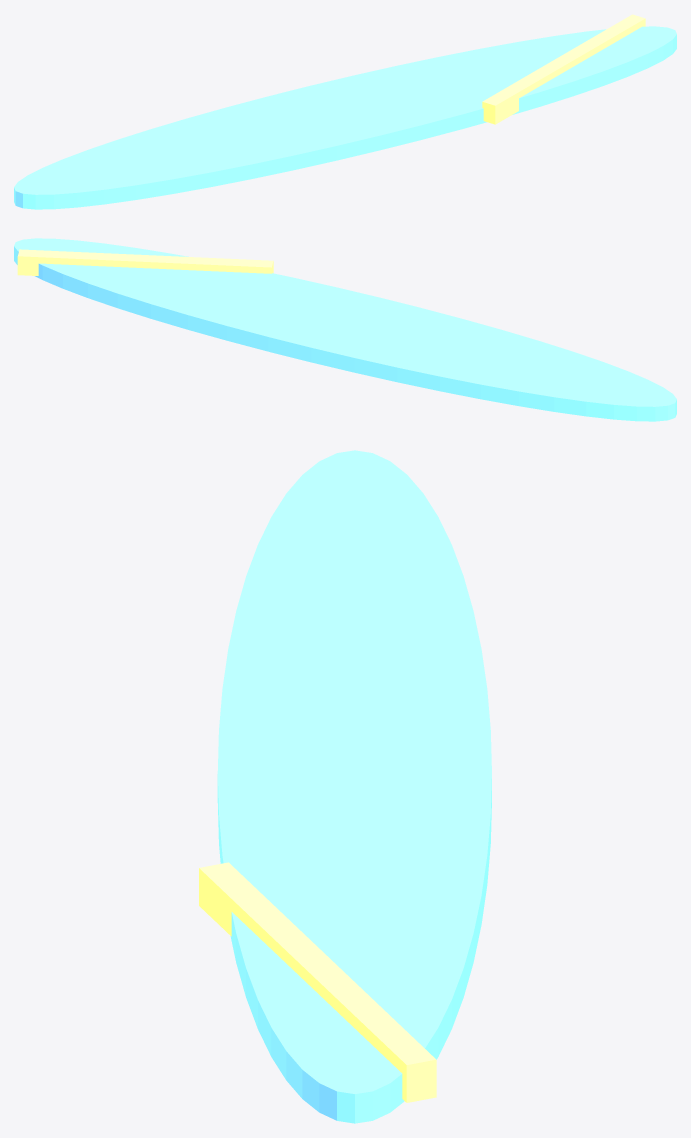
The model's file is slash_arc.glb.
3 views of the same model, one above another, from view 1: azimuth 30°, elevation 25°; view 2: azimuth 150°, elevation 25°; view 3: azimuth 270°, elevation 25° (orthographic). The views are drawn at different scales.
Parts seen in each view (by area): view 1: slash crescent core, slash leading edge, slash trailing edge; view 2: slash crescent core, slash leading edge, slash trailing edge; view 3: slash crescent core, slash leading edge, slash trailing edge.
Part boxes in pixels (x1,y1,x2,y2): slash crescent core: (14, 26, 676, 209); slash leading edge: (482, 14, 645, 124); slash trailing edge: (84, 118, 201, 183); slash crescent core: (14, 238, 676, 421); slash leading edge: (17, 249, 273, 275); slash trailing edge: (436, 370, 621, 382); slash crescent core: (217, 450, 491, 1123); slash leading edge: (199, 862, 436, 1102); slash trailing edge: (306, 510, 473, 657).
Size of the model in its own units: 1.64 by 0.05 by 0.3154.
